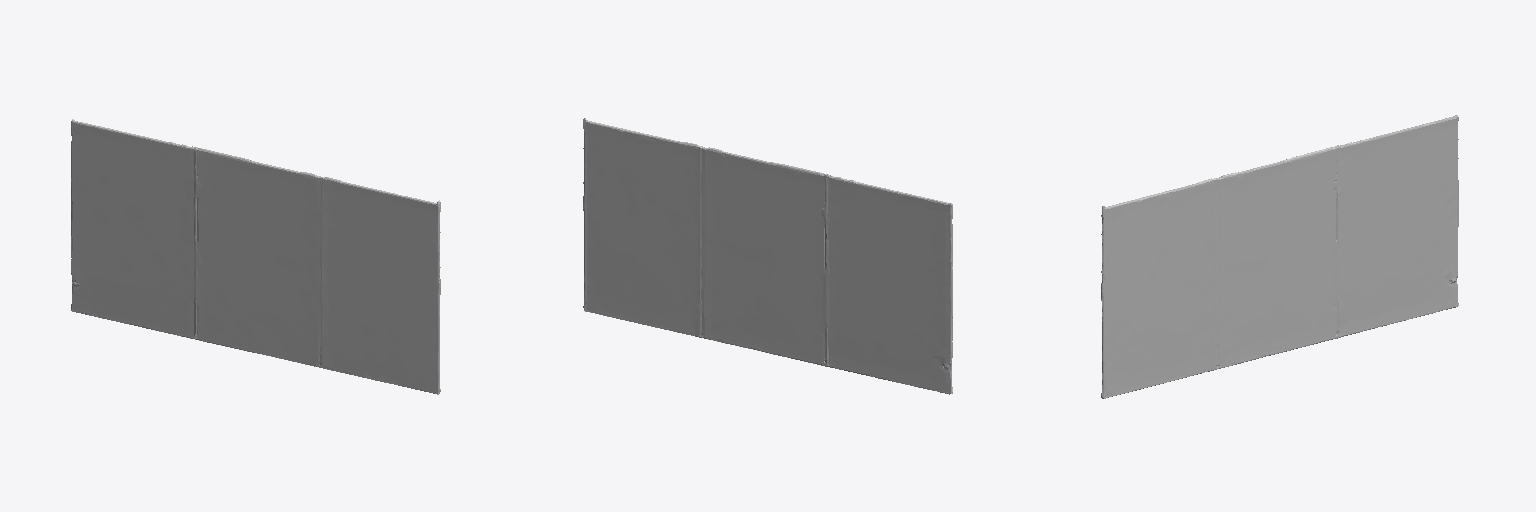
Rendered from cuadronuevo10.obj.
The picture shows the model from 3 angles: view 1: azimuth 30°, elevation 25°; view 2: azimuth 210°, elevation 25°; view 3: azimuth 270°, elevation 25°; orthographic projection.
Visible parts, largest first — view 1: cuadronuevo10; view 2: cuadronuevo10; view 3: cuadronuevo10.
Boxes of the visible parts, x1=… form: cuadronuevo10: x1=71, y1=119, x2=440, y2=394; cuadronuevo10: x1=583, y1=118, x2=952, y2=394; cuadronuevo10: x1=1101, y1=115, x2=1458, y2=398.
Size of the model in its own units: 9.62 by 9.25 by 15.47.